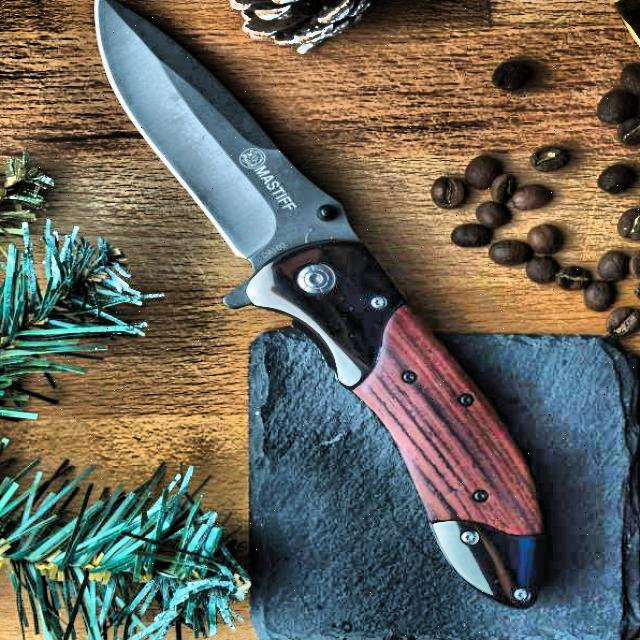knife: (90, 0, 554, 611)
